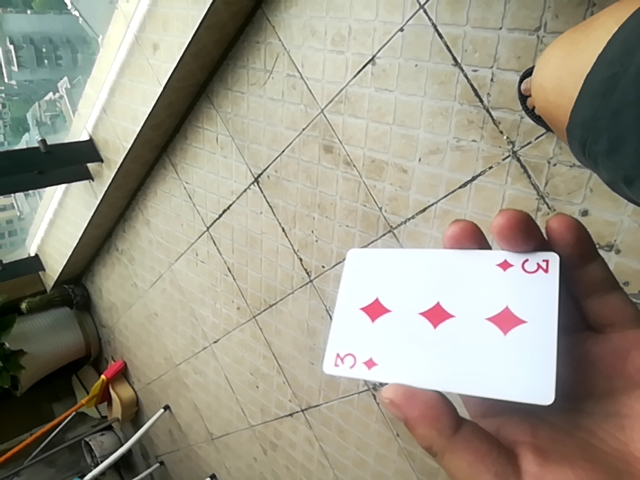fk 3: (318, 243, 567, 407)
